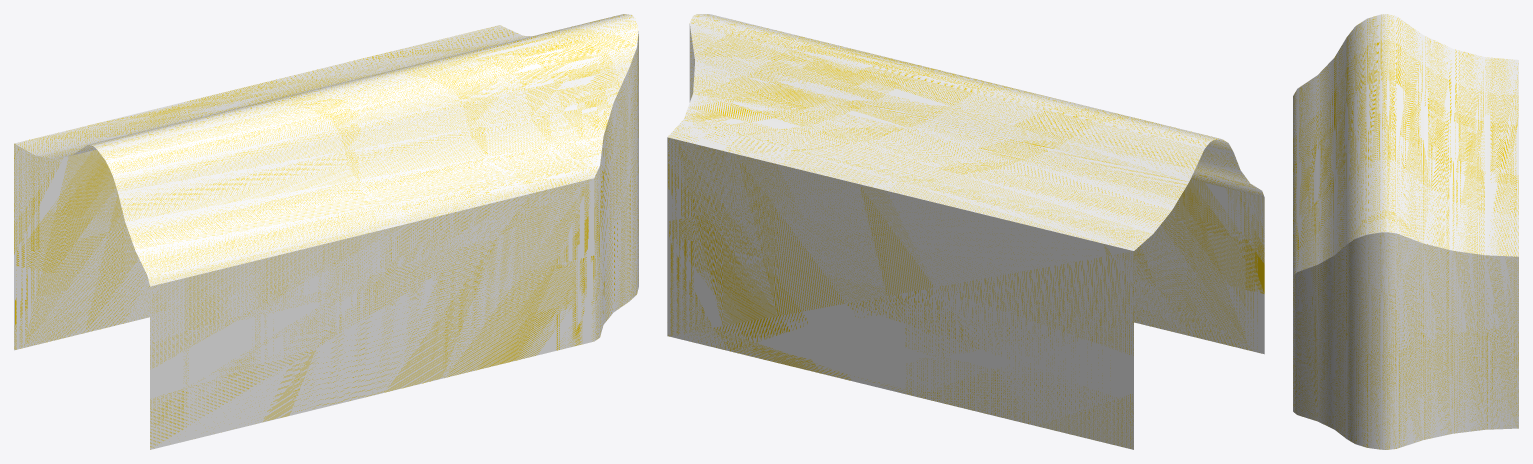
File: original-26.obj
3 renders of one model, left to right at view 1: azimuth 30°, elevation 25°; view 2: azimuth 150°, elevation 25°; view 3: azimuth 270°, elevation 25°, orthographic. The views are drawn at different scales.
Visible parts, largest first — view 1: DF_12_TR1/DF_12_TR/mesh19/mesh19-geometry#mesh19-geometry; view 2: DF_12_TR1/DF_12_TR/mesh19/mesh19-geometry#mesh19-geometry; view 3: DF_12_TR1/DF_12_TR/mesh19/mesh19-geometry#mesh19-geometry.
Part boxes in pixels (x1,y1,x2,y2): DF_12_TR1/DF_12_TR/mesh19/mesh19-geometry#mesh19-geometry: (14,14,638,449); DF_12_TR1/DF_12_TR/mesh19/mesh19-geometry#mesh19-geometry: (667,14,1264,449); DF_12_TR1/DF_12_TR/mesh19/mesh19-geometry#mesh19-geometry: (1293,14,1518,449).
Size of the model in its own units: 0.0727 by 0.0338 by 0.0318.
